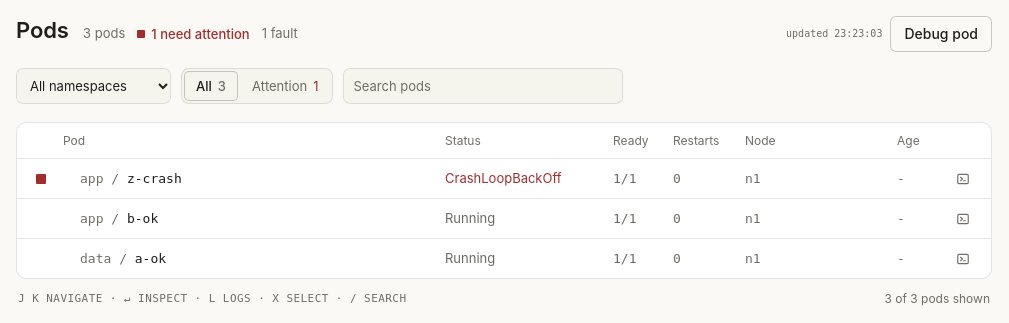
Test: Pods rows, mounted end to end (slice 3 §5.9) › lists all namespaces' rows, faults first in the lens's own order; the namespace is a list filter
Expected: the element with test id "pods-attention" reads "1 need attention", [151,26,250,42]
Select "data" in the dropdown named "Namespace": x=94, y=86 [16,66,171,106]
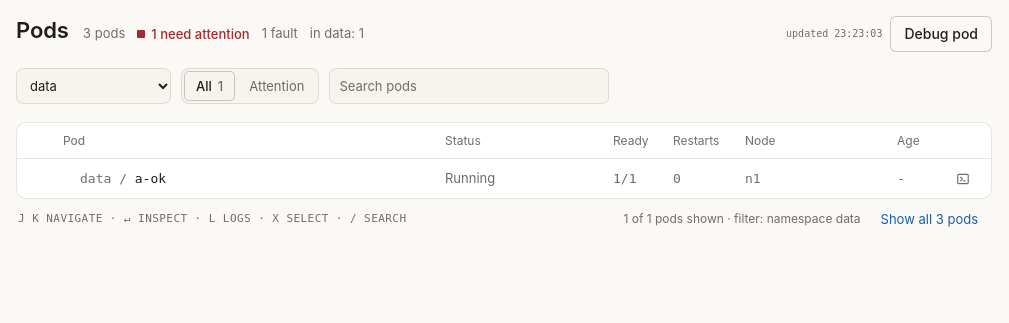
Result: the text with test id "pods-scoped" reads "in data: 1" at [310,24,364,42]
